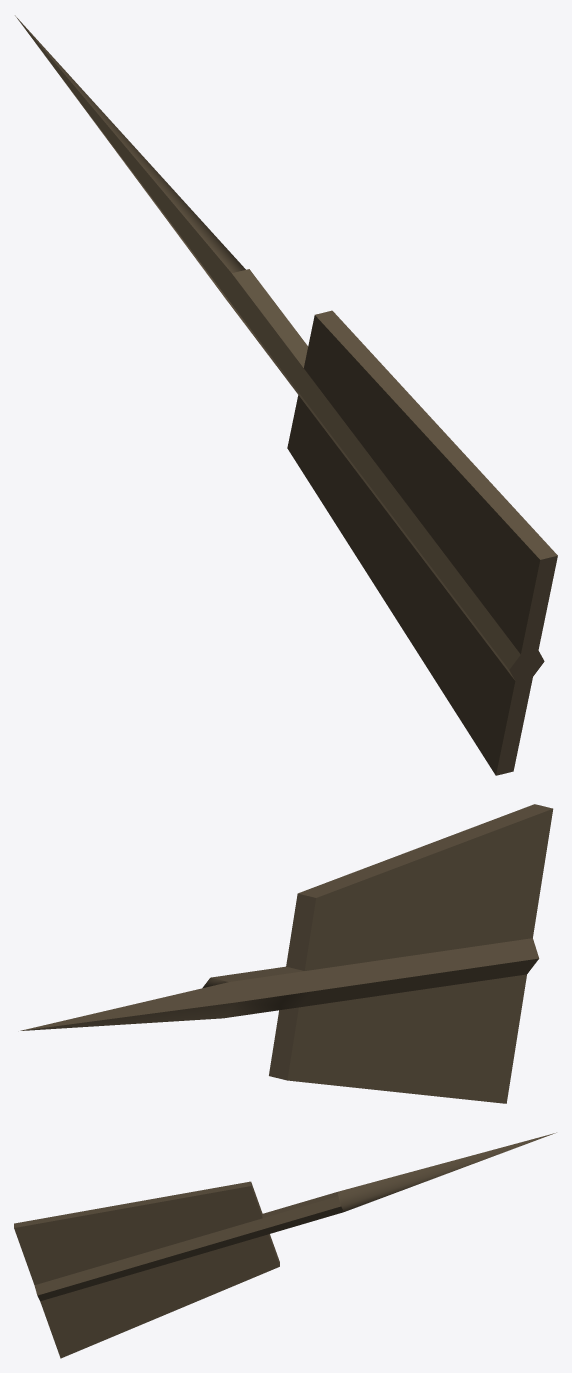
Rendered from Paddle Broken.fbx.
3 views of the same model, one above another, from view 1: azimuth 30°, elevation 25°; view 2: azimuth 150°, elevation 25°; view 3: azimuth 270°, elevation 25° (orthographic). The views are drawn at different scales.
Parts seen in each view (by area): view 1: pCylinder4; view 2: pCylinder4; view 3: pCylinder4.
Part boxes in pixels (x1,y1,x2,y2): pCylinder4: (15,15,557,775); pCylinder4: (20,804,553,1103); pCylinder4: (14,1132,556,1358).
Size of the model in its own units: 0.1206 by 1.36 by 3.06.
